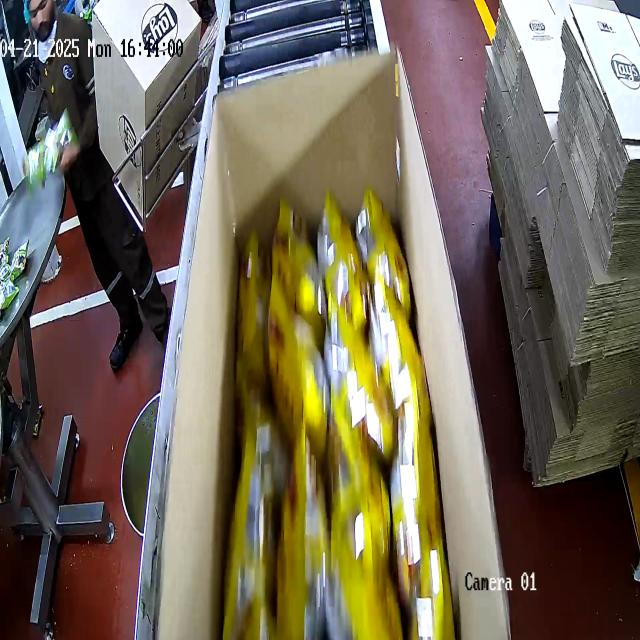SALTED: (228, 191, 441, 640)
